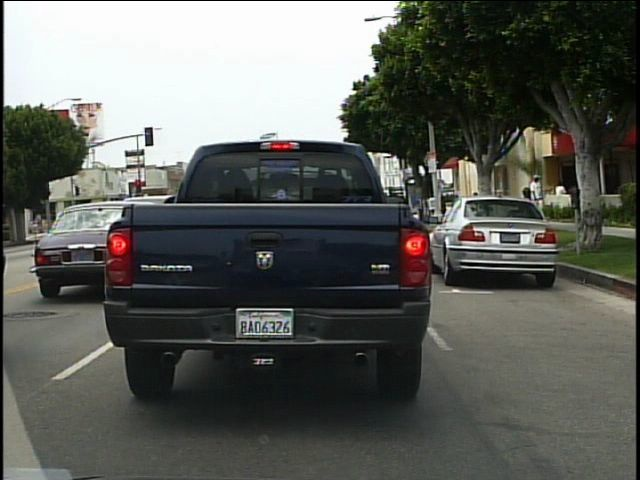person: (527, 173, 551, 224), (552, 178, 571, 222)
